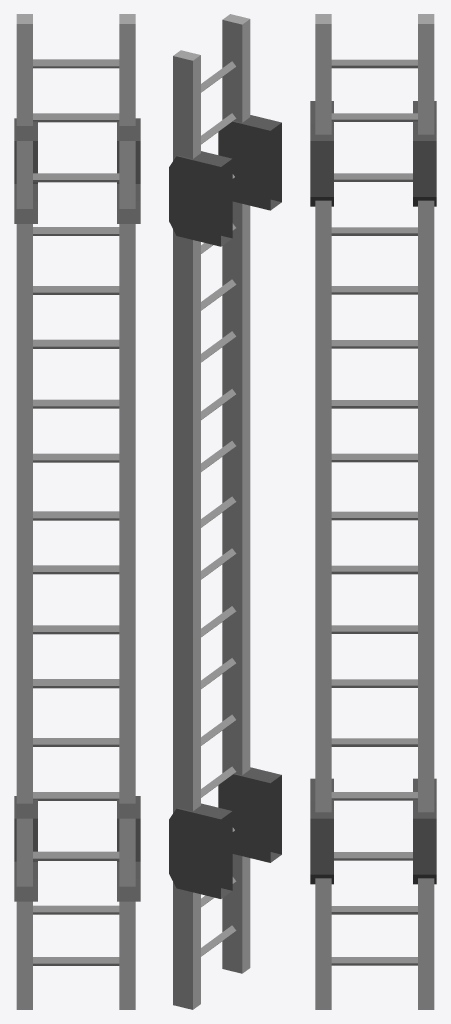
The model's file is ladder.FBX.
The picture shows the model from 3 angles, left to right: view 1: azimuth 90°, elevation 25°; view 2: azimuth 150°, elevation 25°; view 3: azimuth 270°, elevation 25°; orthographic projection. The views are drawn at different scales.
Parts seen in each view (by area): view 1: ladder; view 2: ladder; view 3: ladder.
Part boxes in pixels (x1=…): ladder: x1=14, y1=14, x2=140, y2=1009; ladder: x1=169, y1=14, x2=281, y2=1009; ladder: x1=310, y1=14, x2=436, y2=1009.
Size of the model in its own units: 13.18 by 230 by 26.69.
